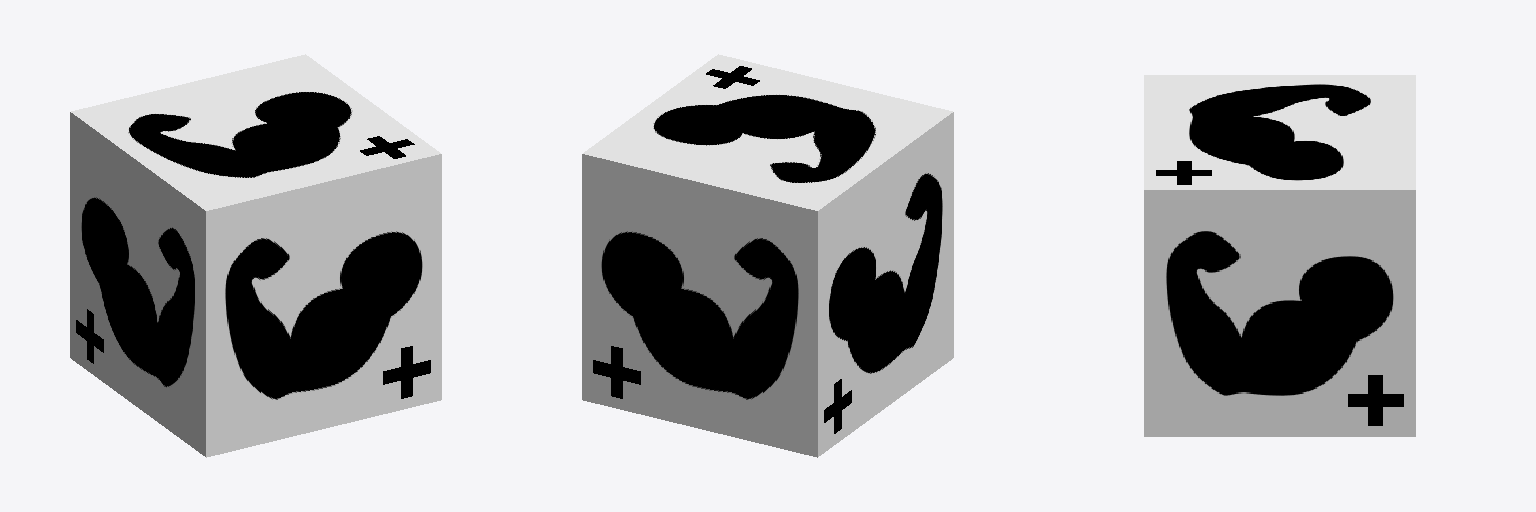
3 renders of one model, left to right at view 1: azimuth 30°, elevation 25°; view 2: azimuth 150°, elevation 25°; view 3: azimuth 270°, elevation 25°, orthographic.
Parts seen in each view (by area): view 1: pCube1; view 2: pCube1; view 3: pCube1.
Part boxes in pixels (left/top/right/bottom): pCube1: left=70, top=54, right=441, bottom=457; pCube1: left=582, top=54, right=953, bottom=457; pCube1: left=1144, top=75, right=1415, bottom=436.
Bounding box in the file's own units: 2 × 2 × 2.
1 materials, 1 textured.